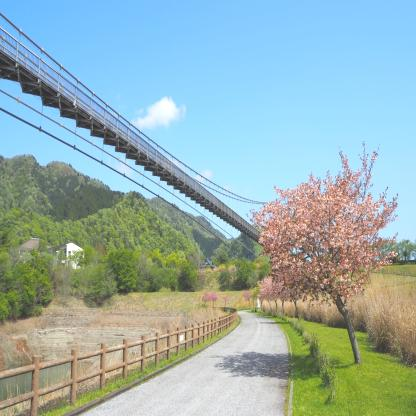YaeSakura: (259, 141, 401, 307), (265, 267, 280, 311), (289, 258, 302, 308), (276, 255, 288, 304), (256, 270, 267, 306), (219, 287, 231, 307), (209, 286, 220, 306), (243, 285, 252, 304), (200, 289, 210, 304)
